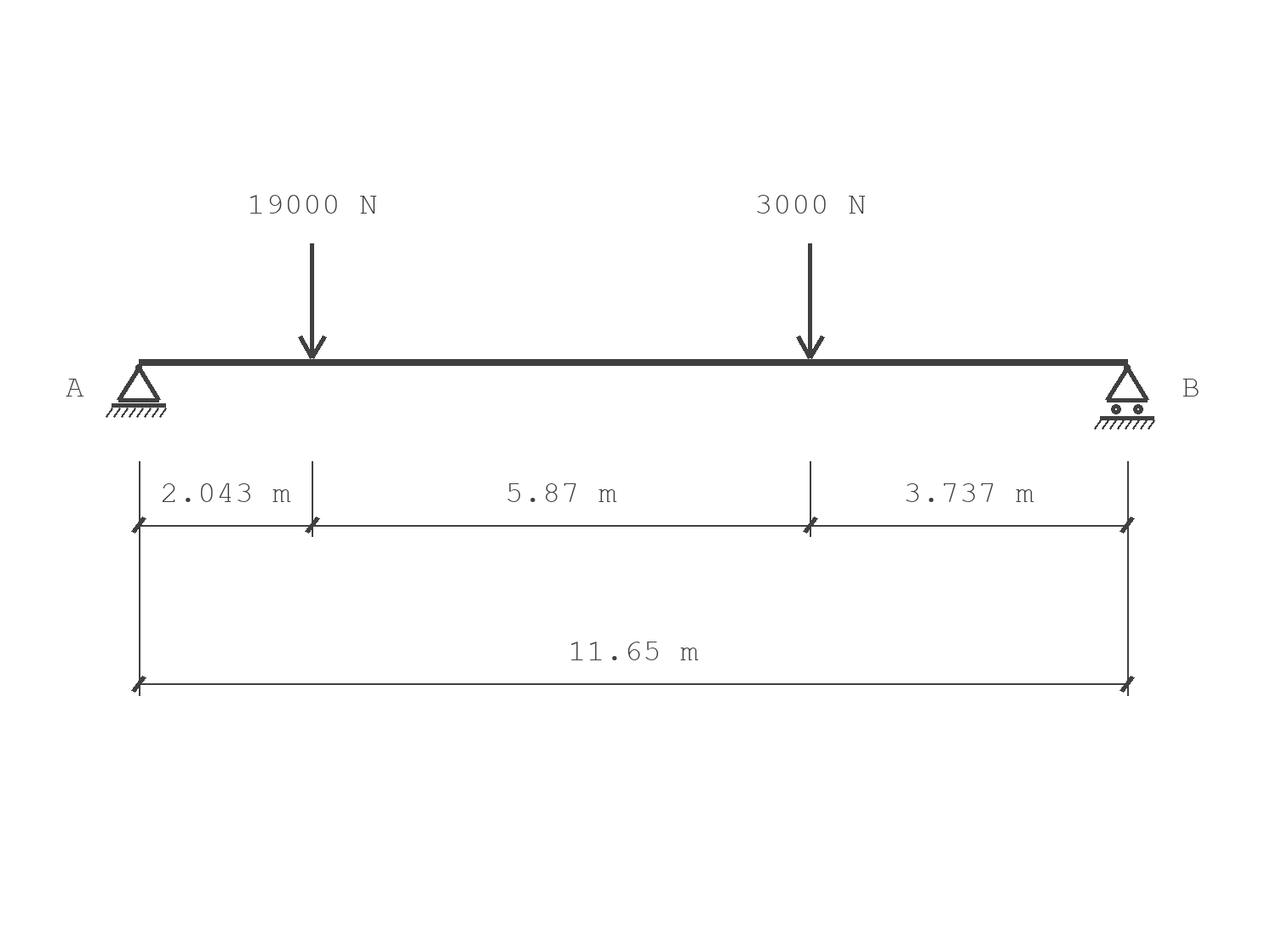pin_support: (106, 364, 167, 418)
point_load: (298, 243, 327, 359), (796, 243, 825, 359)
roller_support: (1094, 364, 1155, 430)
